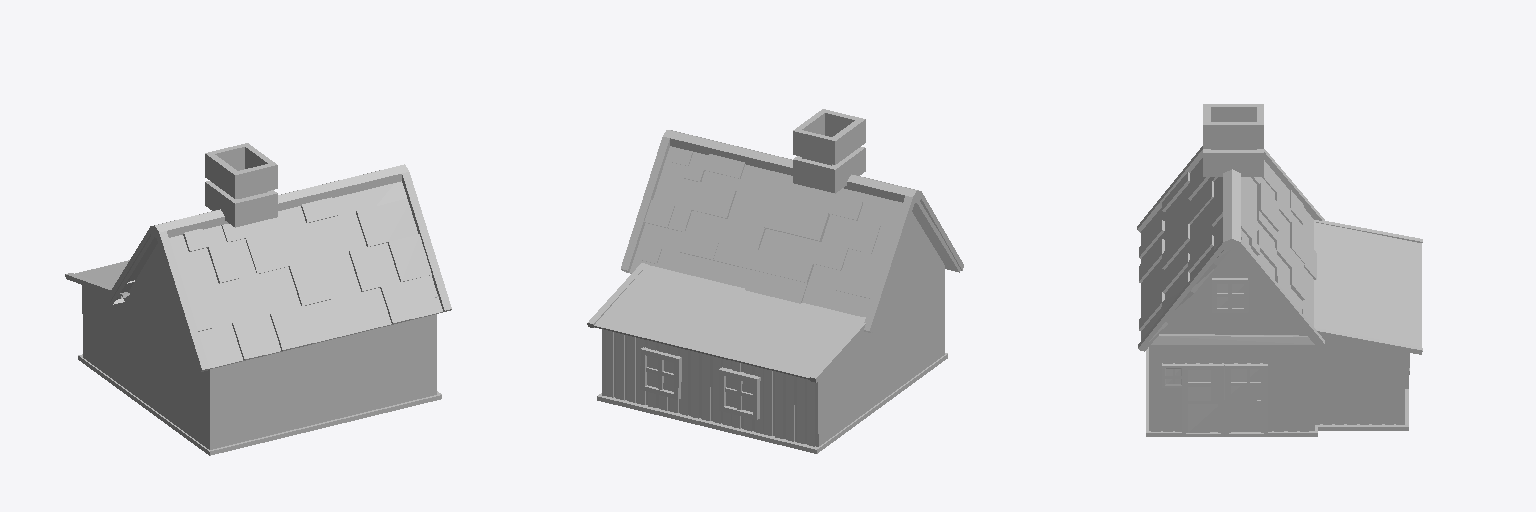
Rendered from home.obj.
3 renders of one model, left to right at view 1: azimuth 30°, elevation 25°; view 2: azimuth 150°, elevation 25°; view 3: azimuth 270°, elevation 25°, orthographic.
Visible parts, largest first — view 1: Plane 50, Plane 6, Plane 54, Plane 63, Plane 61, Plane 62, Plane 49, Plane 48; view 2: Plane 49, Plane 48, Plane 6, Plane 54, Plane 63, Plane 61, Plane 62, Plane 57, Plane 56, Plane 50, Plane 53, Plane 28 (+9 smaller); view 3: Plane 48, Plane 50, Plane 6, Plane 49, Plane 54, Plane 60, Plane 63, Plane 58, Plane 51, Plane 62, Plane 59, Plane 61 (+14 smaller).
Boxes of the visible parts, box(x1,y1,x2,y2) form: Plane 50: box(157, 181, 442, 370); Plane 6: box(82, 244, 436, 449); Plane 54: box(108, 164, 451, 371); Plane 63: box(205, 143, 277, 198); Plane 61: box(78, 354, 441, 455); Plane 62: box(205, 181, 277, 227); Plane 49: box(111, 235, 157, 304); Plane 48: box(75, 260, 129, 296); Plane 49: box(624, 146, 913, 332); Plane 48: box(594, 265, 863, 379); Plane 6: box(614, 212, 944, 446); Plane 54: box(621, 130, 963, 332); Plane 63: box(793, 109, 865, 165); Plane 61: box(597, 353, 947, 453); Plane 62: box(793, 147, 865, 193); Plane 57: box(719, 367, 760, 419); Plane 56: box(640, 347, 681, 399); Plane 50: box(912, 200, 960, 272); Plane 53: box(810, 317, 865, 382); Plane 28: box(616, 333, 624, 400); Plane 48: box(1314, 222, 1421, 346); Plane 50: box(1139, 158, 1230, 351); Plane 6: box(1149, 250, 1395, 430); Plane 49: box(1235, 160, 1319, 347); Plane 54: box(1137, 146, 1324, 350); Plane 60: box(1188, 364, 1260, 432); Plane 63: box(1203, 104, 1263, 149); Plane 58: box(1162, 363, 1223, 436); Plane 51: box(1151, 334, 1314, 344); Plane 62: box(1203, 149, 1263, 176); Plane 59: box(1225, 363, 1267, 436); Plane 61: box(1146, 347, 1408, 436).
Size of the model in its own units: 6.25 by 5.88 by 6.18.